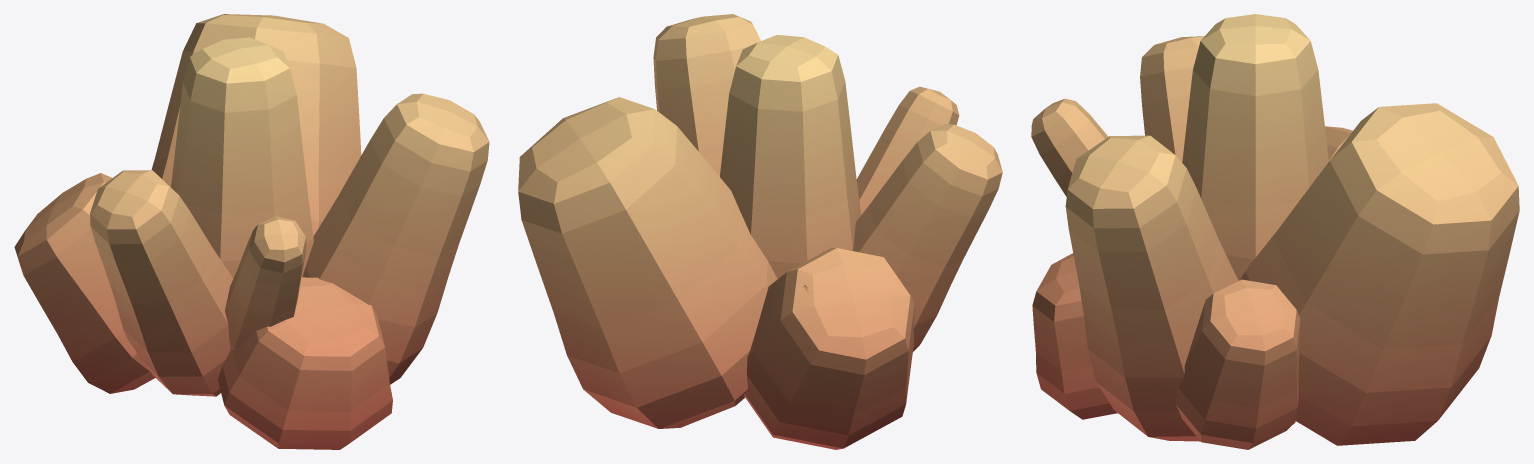
Rendered from Object_Coral_05.fbx.
3 views of the same model, side by side, from view 1: azimuth 30°, elevation 25°; view 2: azimuth 150°, elevation 25°; view 3: azimuth 270°, elevation 25° (orthographic). The views are drawn at different scales.
Visible parts, largest first — view 1: CoralTubes.002; view 2: CoralTubes.002; view 3: CoralTubes.002.
Boxes of the visible parts, x1,y1,x2,y2 form: CoralTubes.002: (14,14,489,449); CoralTubes.002: (518,14,1002,449); CoralTubes.002: (1031,14,1519,449).
Bounding box in the file's own units: 320 × 285 × 336.
